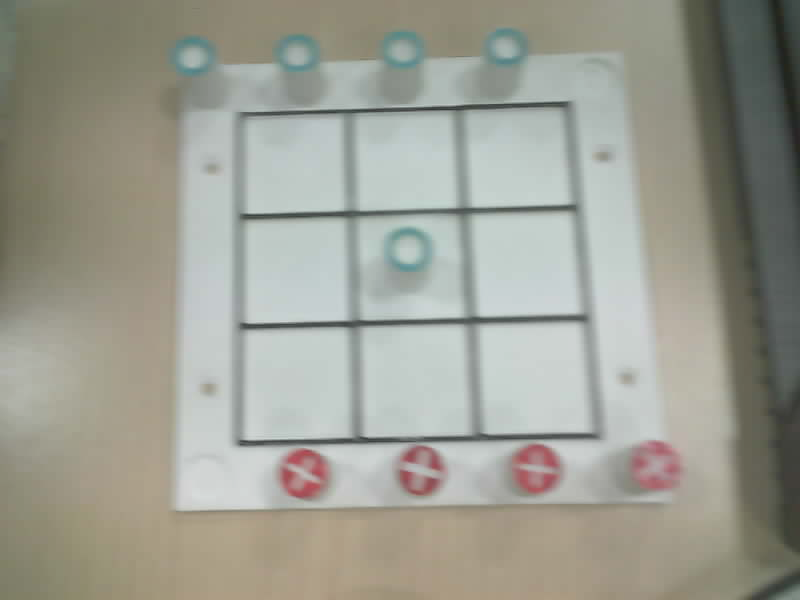blue circle: (384, 227, 432, 271), (170, 36, 216, 75), (274, 34, 320, 71), (381, 30, 424, 68), (484, 28, 527, 65)
board: (173, 30, 679, 509)
cells: (479, 322, 592, 434), (242, 328, 351, 440), (361, 326, 470, 437), (470, 211, 581, 316), (242, 217, 348, 322), (358, 216, 464, 319), (466, 107, 572, 206), (355, 111, 456, 209), (244, 114, 345, 212)
grid: (234, 103, 600, 445)
red cross: (630, 441, 682, 490), (279, 448, 329, 498), (511, 444, 561, 493), (398, 445, 445, 495)
